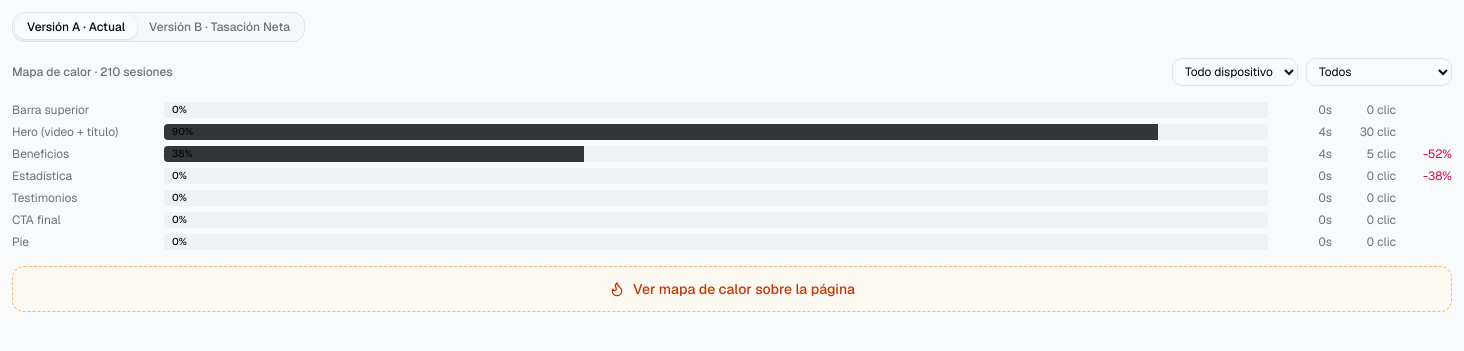
HeatmapPanel — el filtro de etapa no sobrevive al cambio de versión › pasar de la A (filtrada por una etapa que la B no tiene) a la B muestra TODAS las sesiones de la B
Select "Etapa: Seguimiento" in the dropdown named "Segmento" at (1379,72), box [1306,58,1452,86]
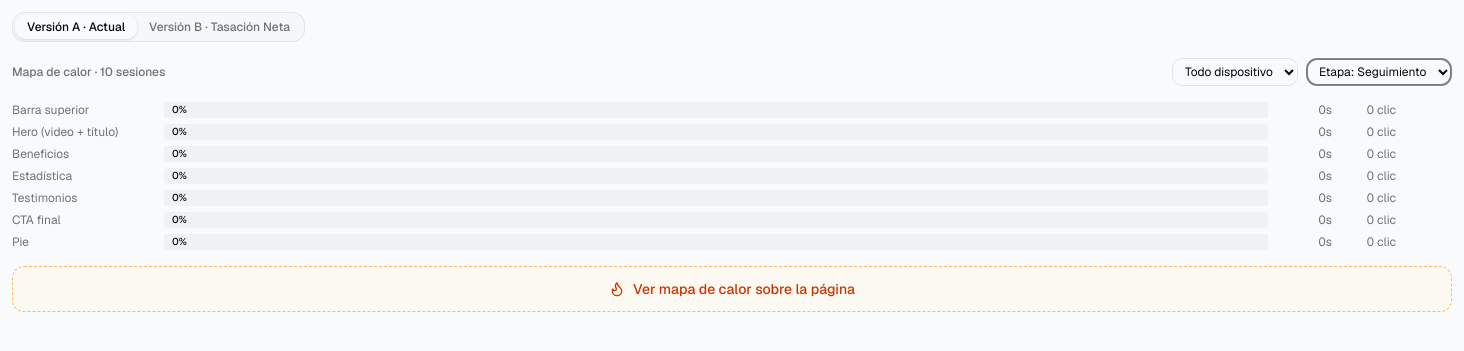
Check: the text "Mapa de calor · 10 sesiones" is shown, box [12,64,165,80]
Click the button "Versión B · Tasación Neta" at (220,27), box [137,15,302,39]
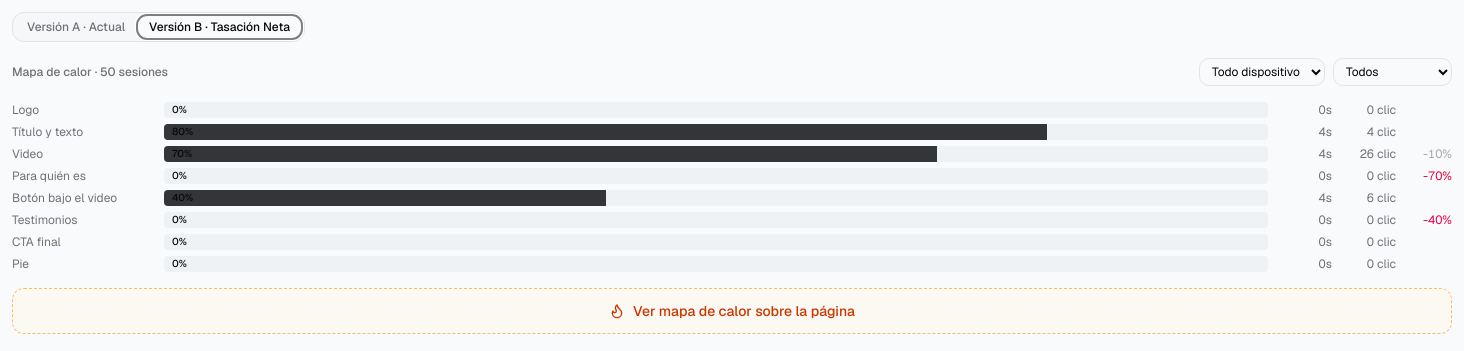
Check: the text "Mapa de calor · 50 sesiones" is shown, box [12,64,168,80]
